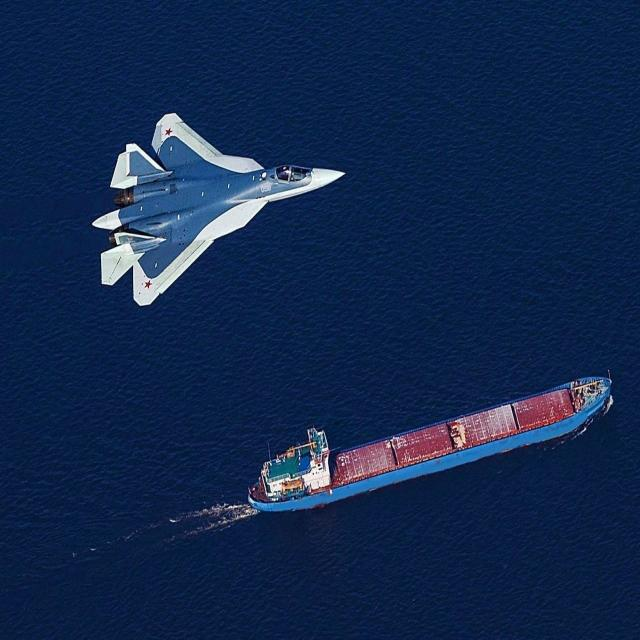MIL_Plane: (92, 104, 346, 298)
